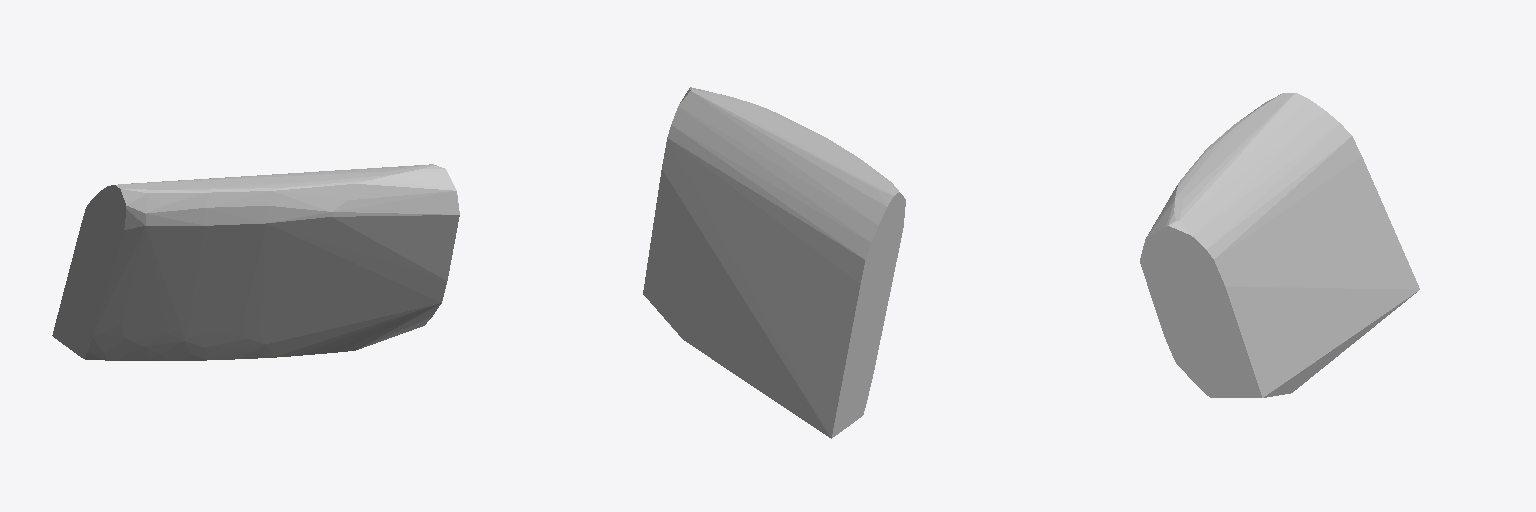
The model's file is pan_collision_32.obj.
3 renders of one model, left to right at view 1: azimuth 30°, elevation 25°; view 2: azimuth 150°, elevation 25°; view 3: azimuth 270°, elevation 25°, orthographic.
Size of the model in its own units: 0.0465 by 0.0329 by 0.0423.